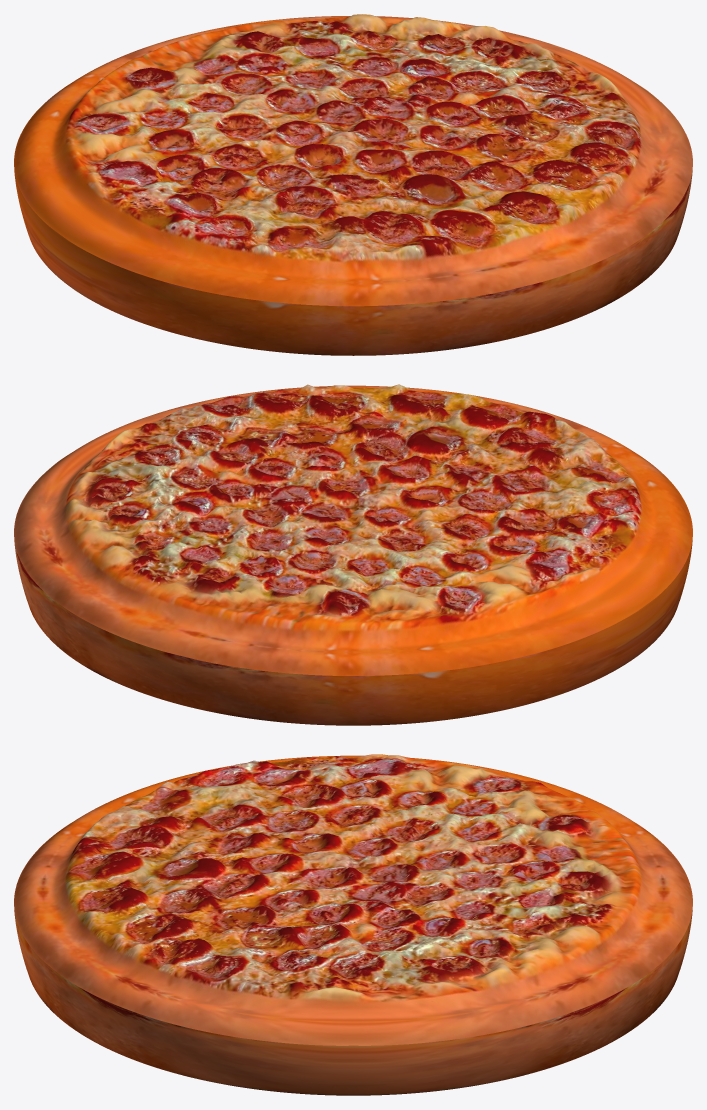
The model's file is salchichona.glb.
The picture shows the model from 3 angles, top to bottom: view 1: azimuth 30°, elevation 25°; view 2: azimuth 150°, elevation 25°; view 3: azimuth 270°, elevation 25°; orthographic projection.
Parts seen in each view (by area): view 1: Salchichona; view 2: Salchichona; view 3: Salchichona.
Part boxes in pixels (x1,y1,x2,y2): Salchichona: (14,14,692,355); Salchichona: (14,384,692,725); Salchichona: (14,754,692,1095).
Size of the model in its own units: 0.36 by 0.0545 by 0.36.
Materials: 2 (2 with a texture image).
